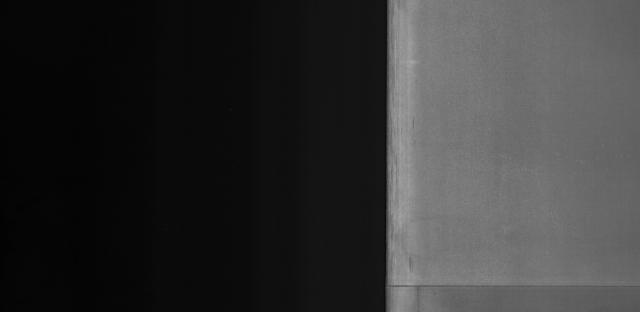welding_line: (372, 273, 636, 298)
